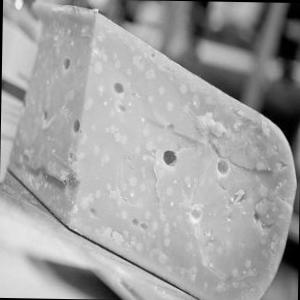cheese: (3, 2, 290, 300)
